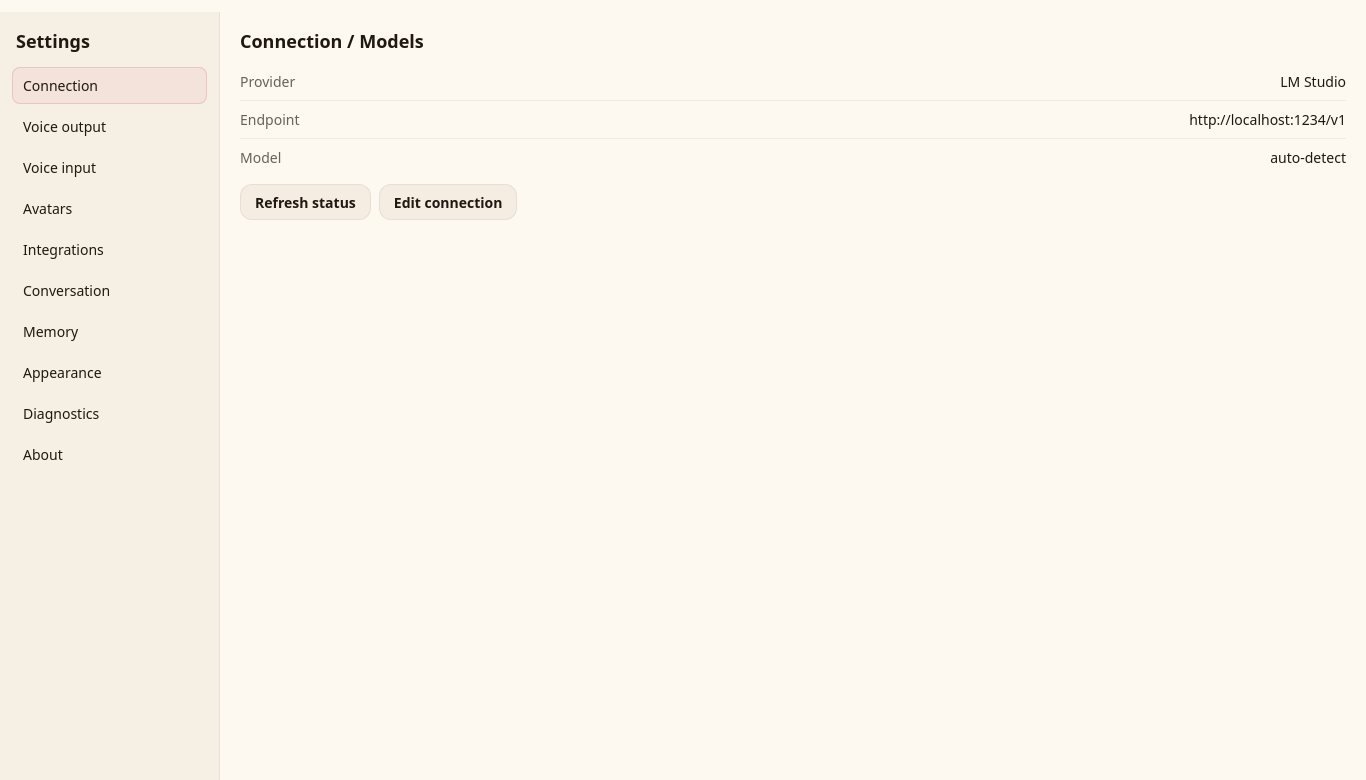
Test: Settings TTS section › starts explicit STT model download and surfaces provider failure summaries
Click the button "Voice input" at {"x": 110, "y": 168}, box top-left (12, 149), bottom-right (207, 186)
(page scrolled)
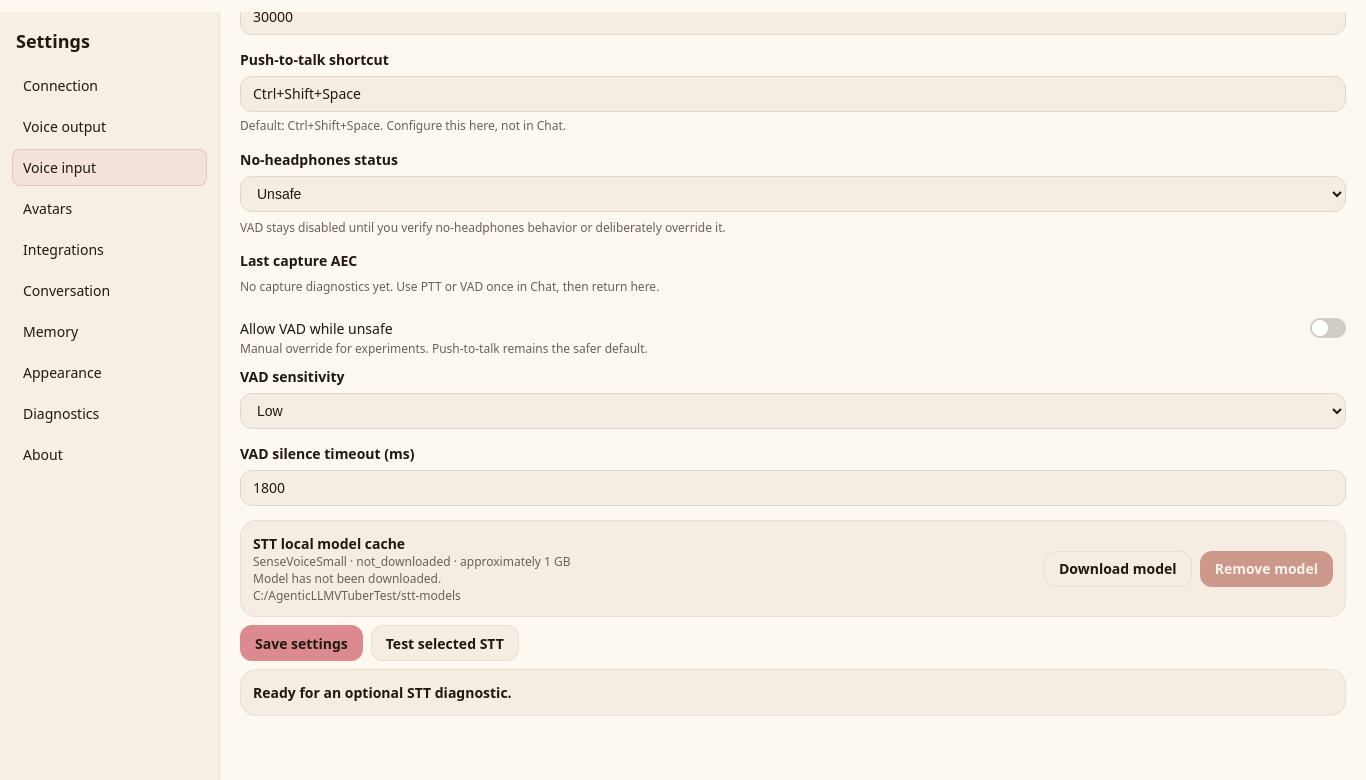
Check: the text "STT local model cache" is shown, box top-left (253, 534), bottom-right (405, 553)
Click the button "Download model" at {"x": 1118, "y": 569}, box top-left (1044, 551), bottom-right (1192, 587)
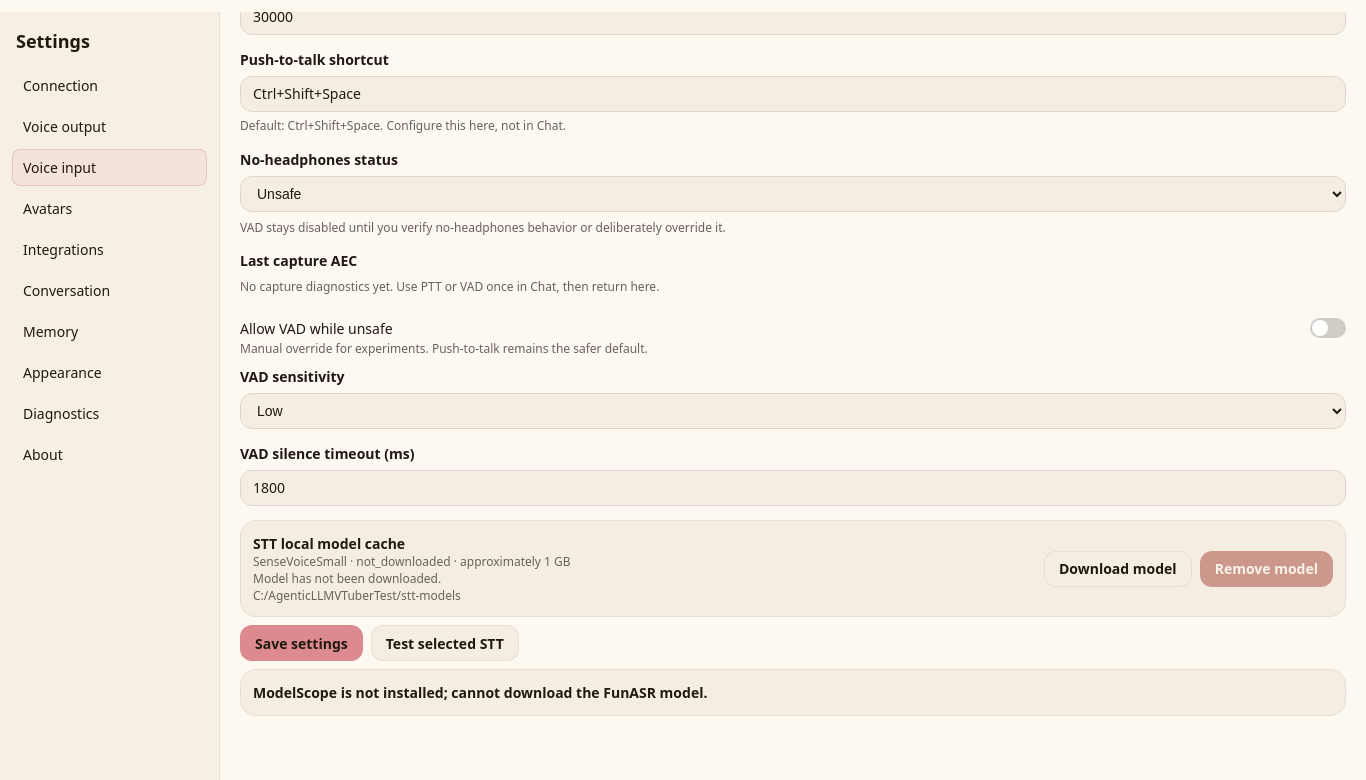
Check: the text "ModelScope is not installed" is shown, box top-left (253, 683), bottom-right (707, 702)
